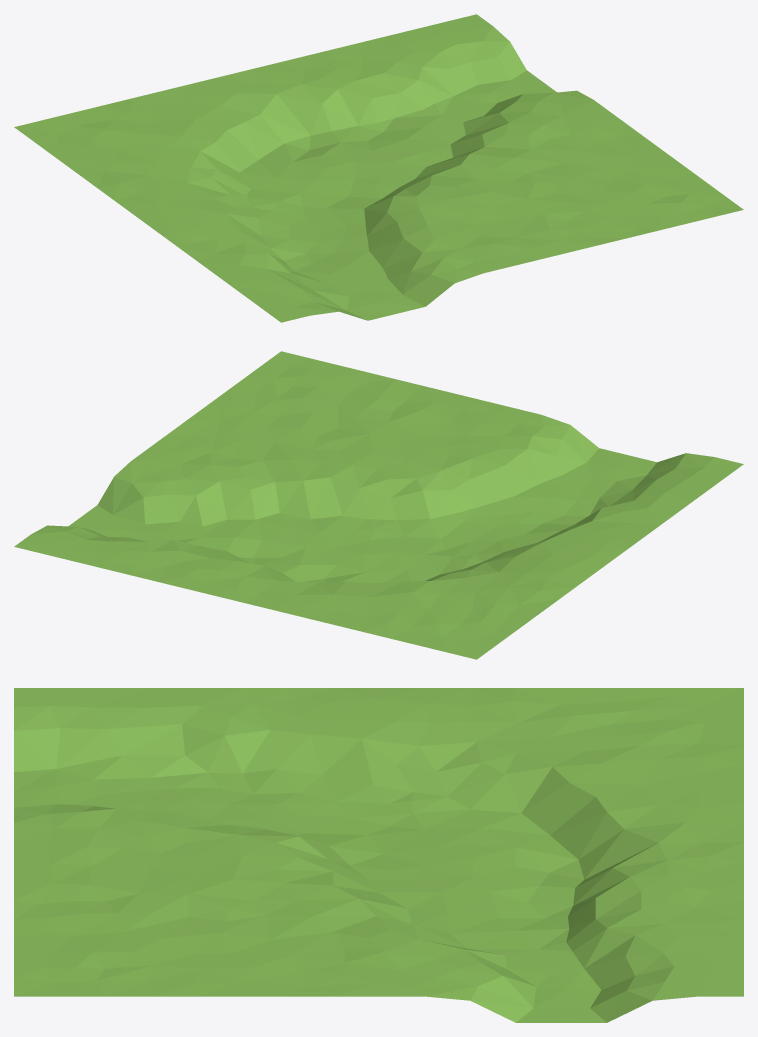
The model's file is MT_River_M_b_02_LOD.fbx.
3 renders of one model, top to bottom at view 1: azimuth 30°, elevation 25°; view 2: azimuth 150°, elevation 25°; view 3: azimuth 270°, elevation 25°, orthographic. The views are drawn at different scales.
Parts seen in each view (by area): view 1: MT_River_M_b_02_LOD0; view 2: MT_River_M_b_02_LOD0; view 3: MT_River_M_b_02_LOD0.
Boxes of the visible parts, left/top/right/bottom form: MT_River_M_b_02_LOD0: left=14, top=14, right=743, bottom=322; MT_River_M_b_02_LOD0: left=14, top=351, right=743, bottom=659; MT_River_M_b_02_LOD0: left=14, top=688, right=743, bottom=1022.
Size of what is drawn, in the model's own units: 5000 by 280 by 5000.
